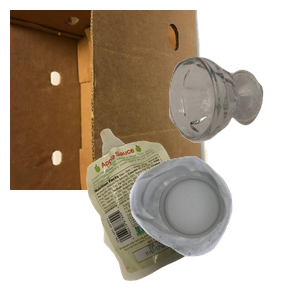cardboard: (10, 10, 211, 190)
glass: (166, 54, 300, 189)
plastic: (127, 154, 300, 300)
trash: (84, 126, 291, 300)
